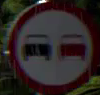No overtake: (8, 2, 96, 94)
